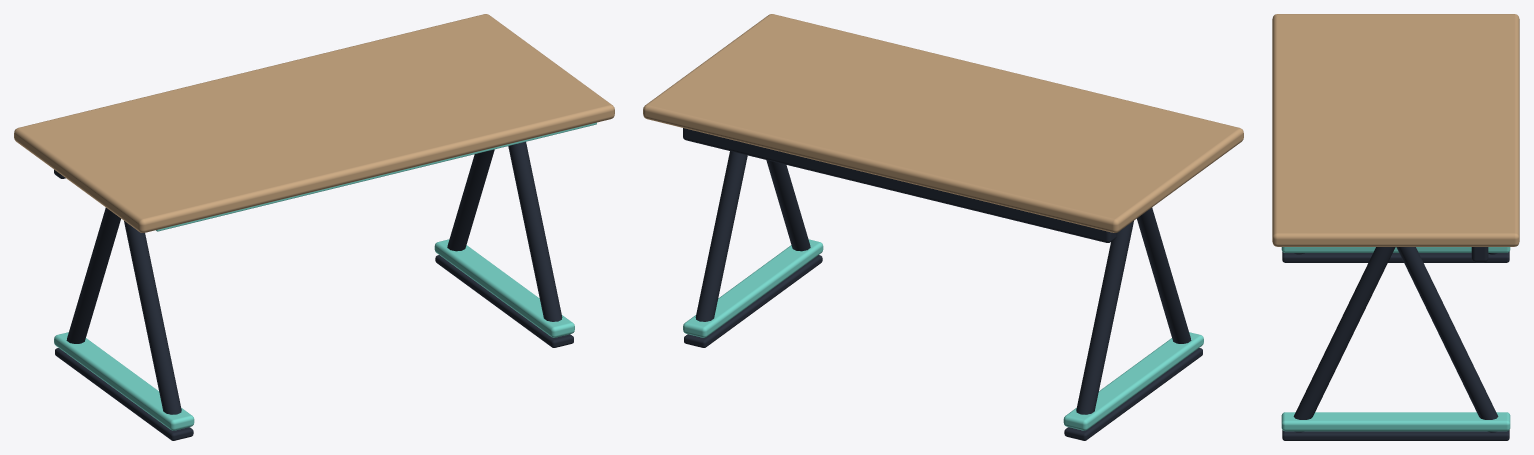
Rendered from desk.studio.160.fafa04e498.glb.
3 renders of one model, left to right at view 1: azimuth 30°, elevation 25°; view 2: azimuth 150°, elevation 25°; view 3: azimuth 270°, elevation 25°, orthographic. The views are drawn at different scales.
Parts seen in each view (by area): view 1: top, frame, accent; view 2: top, frame, accent; view 3: top, frame, accent.
Part boxes in pixels (x1,y1,x2,y2): top: (14, 14, 614, 232); frame: (54, 142, 573, 440); accent: (54, 122, 596, 430); top: (643, 14, 1243, 232); frame: (683, 128, 1202, 440); accent: (683, 239, 1203, 430); top: (1272, 14, 1519, 246); frame: (1282, 247, 1509, 440); accent: (1281, 247, 1510, 431).
Bounding box in the file's own units: 1.6 × 0.75 × 0.75.
